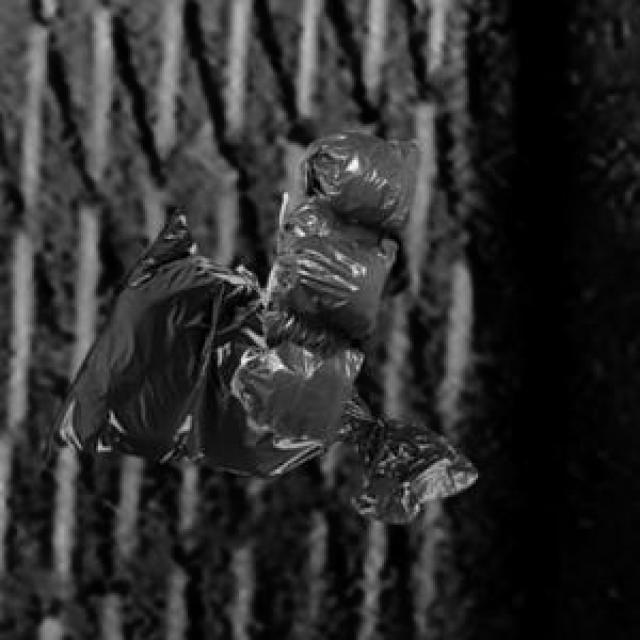miscellaneous trash: (38, 201, 474, 518), (233, 128, 418, 457)
